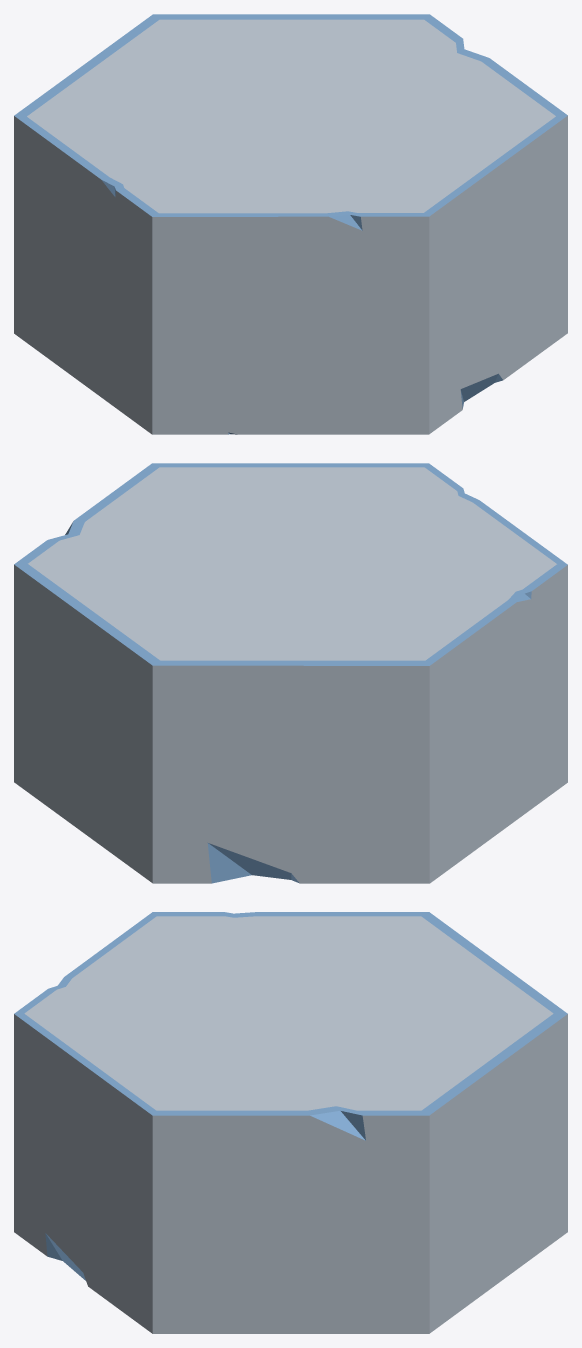
File: hex_1.fbx
The picture shows the model from 3 angles, top to bottom: view 1: azimuth 30°, elevation 25°; view 2: azimuth 150°, elevation 25°; view 3: azimuth 270°, elevation 25°; orthographic projection.
Parts seen in each view (by area): view 1: Cylinder.153; view 2: Cylinder.153; view 3: Cylinder.153.
Boxes of the visible parts, x1=… form: Cylinder.153: x1=14, y1=14, x2=567, y2=434; Cylinder.153: x1=14, y1=463, x2=567, y2=883; Cylinder.153: x1=14, y1=912, x2=567, y2=1333.
Bounding box in the file's own units: 99.9 × 50 × 115.
